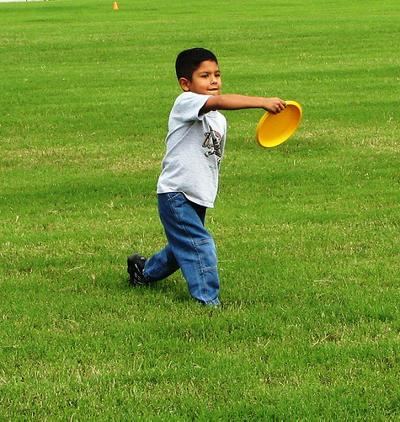person: (126, 46, 290, 307)
